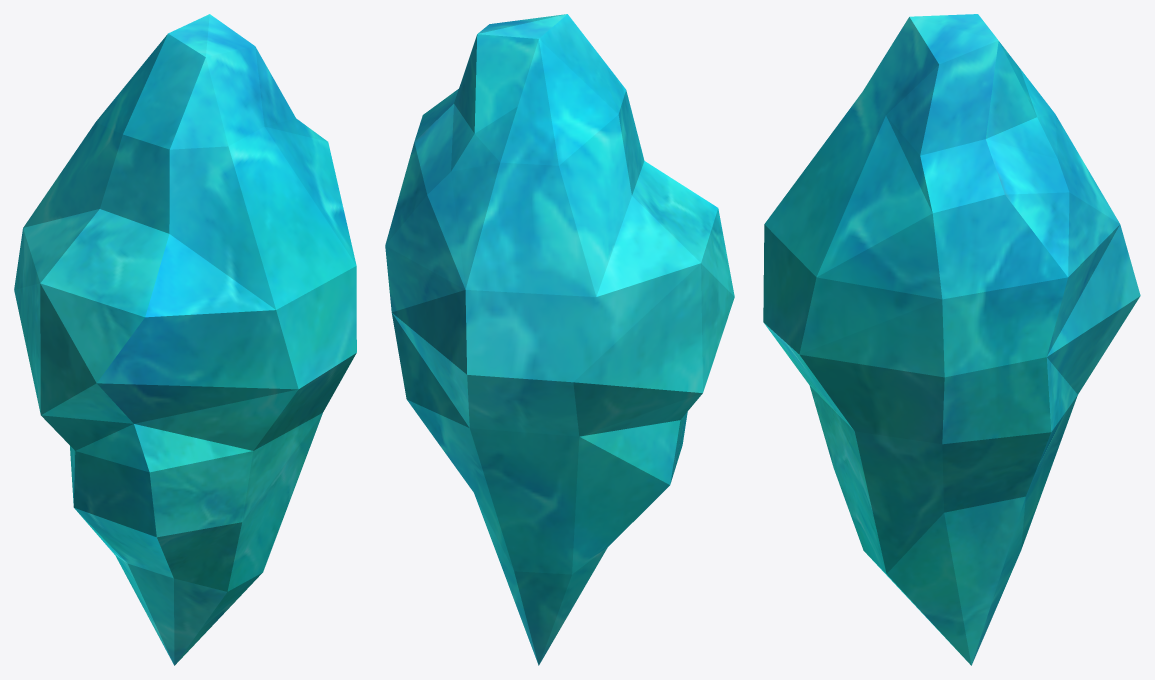
File: G_shuijing003.fbx
The picture shows the model from 3 angles, left to right: view 1: azimuth 30°, elevation 25°; view 2: azimuth 150°, elevation 25°; view 3: azimuth 270°, elevation 25°; orthographic projection. The views are drawn at different scales.
Visible parts, largest first — view 1: G_shuijing003; view 2: G_shuijing003; view 3: G_shuijing003.
Boxes of the visible parts, bbox=[...] form: G_shuijing003: bbox=[14, 14, 356, 665]; G_shuijing003: bbox=[385, 14, 734, 665]; G_shuijing003: bbox=[763, 14, 1140, 665].
Size of the model in its own units: 72.11 by 145 by 76.25.
